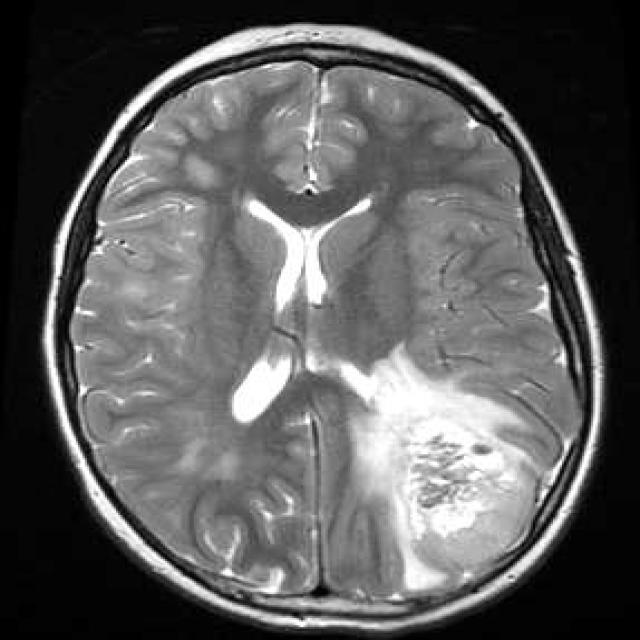Tumor-Cell: (367, 385, 529, 566)
